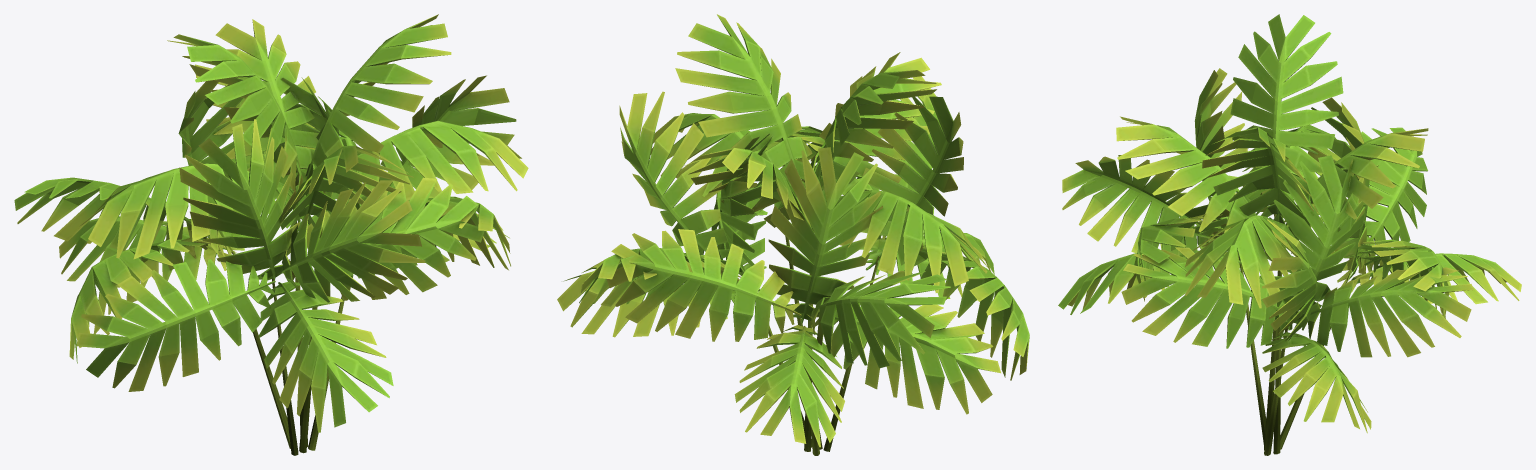
The model's file is ivory-cane-palm.glb.
3 renders of one model, left to right at view 1: azimuth 30°, elevation 25°; view 2: azimuth 150°, elevation 25°; view 3: azimuth 270°, elevation 25°, orthographic. The views are drawn at different scales.
Parts seen in each view (by area): view 1: IvoryPalmTree_mesh; view 2: IvoryPalmTree_mesh; view 3: IvoryPalmTree_mesh.
Boxes of the visible parts, <box> form: IvoryPalmTree_mesh: <box>14,14,528,455</box>; IvoryPalmTree_mesh: <box>557,14,1029,455</box>; IvoryPalmTree_mesh: <box>1058,14,1521,455</box>.
Size of the model in its own units: 10.64 by 9.64 by 10.39.
Materials: 1 (1 with a texture image).
